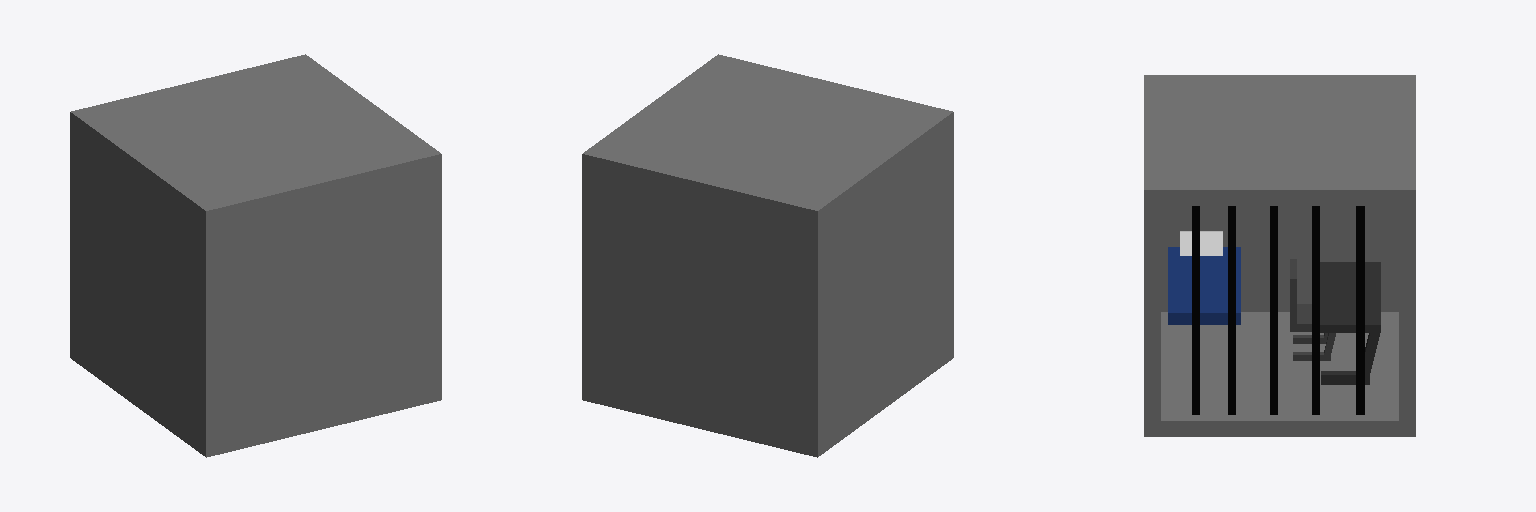
File: jailcell.obj
The picture shows the model from 3 angles: view 1: azimuth 30°, elevation 25°; view 2: azimuth 150°, elevation 25°; view 3: azimuth 270°, elevation 25°; orthographic projection.
Visible parts, largest first — view 1: walls; view 2: walls; view 3: walls, table, bed, bar5, bar2, bar4, bar1, bar3, chair, pillow.
Boxes of the visible parts, x1=… form: walls: x1=70, y1=54, x2=441, y2=457; walls: x1=582, y1=54, x2=953, y2=457; walls: x1=1144, y1=75, x2=1415, y2=436; table: x1=1320, y1=262, x2=1380, y2=384; bed: x1=1168, y1=247, x2=1240, y2=324; bar5: x1=1356, y1=206, x2=1364, y2=414; bar2: x1=1228, y1=206, x2=1235, y2=414; bar4: x1=1312, y1=206, x2=1319, y2=414; bar1: x1=1192, y1=206, x2=1199, y2=414; bar3: x1=1270, y1=206, x2=1277, y2=414; chair: x1=1290, y1=259, x2=1335, y2=360; pillow: x1=1180, y1=231, x2=1222, y2=255.
Size of the model in its own units: 2 by 2 by 2.